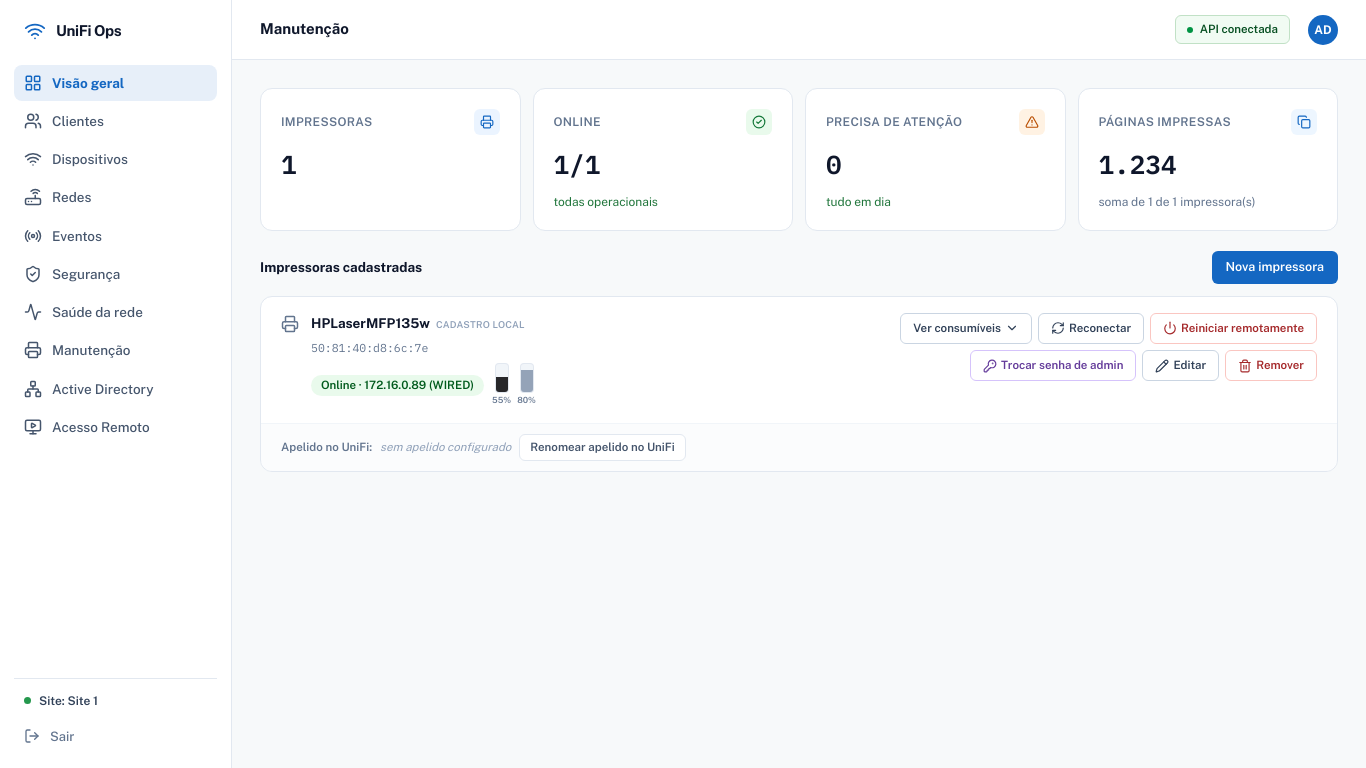
it: Printers page › shows the serial number under a supply when the backend reports one, and hides the line when it does not
Expected: the text "HPLaserMFP135w" is shown, [311,313,430,333]
What coordinates should you click on to do the following:
click the button "Ver consumíveis"
I would click on:
 (966, 328)
Its box is [900,313,1032,344].
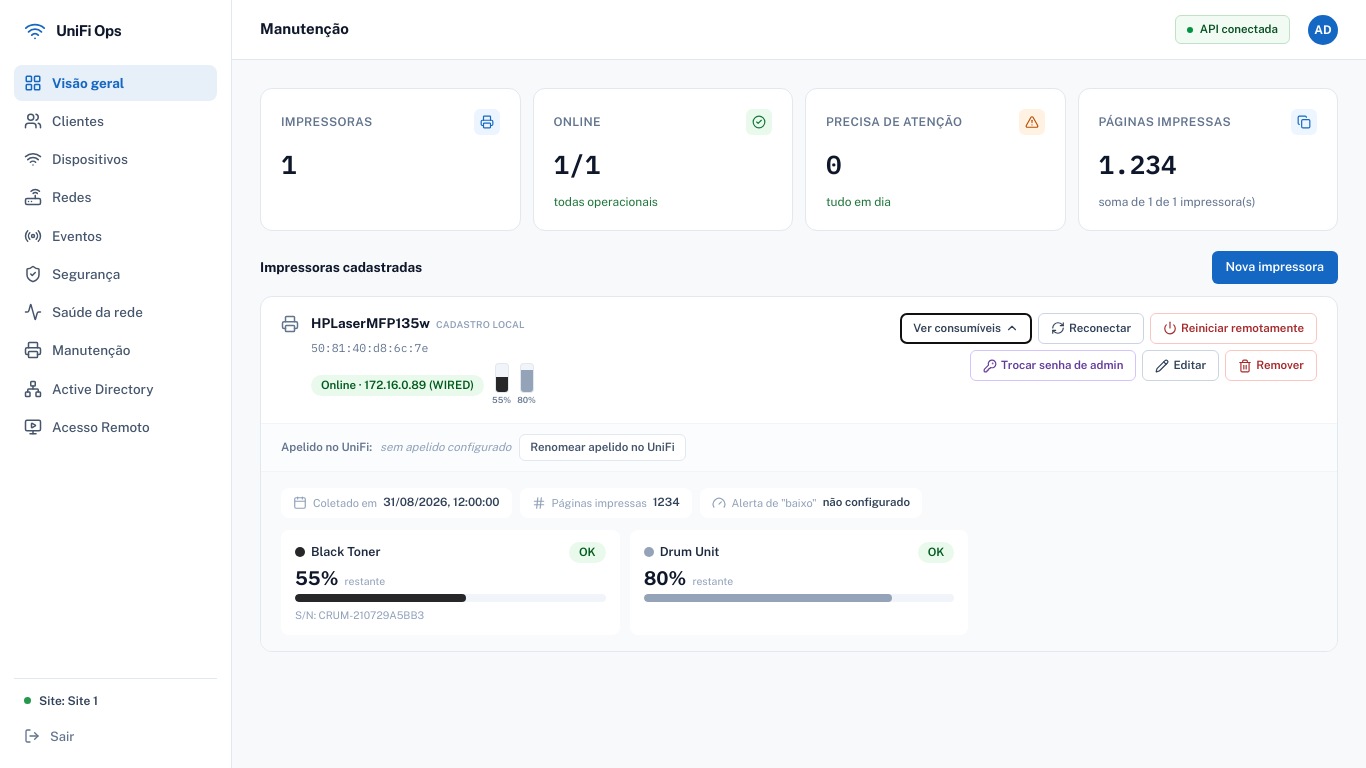
Expected: the text "S/N: CRUM-210729A5BB3" is shown, [295,608,424,620]
Expected: the text "Drum Unit" is shown, [660,543,720,562]
